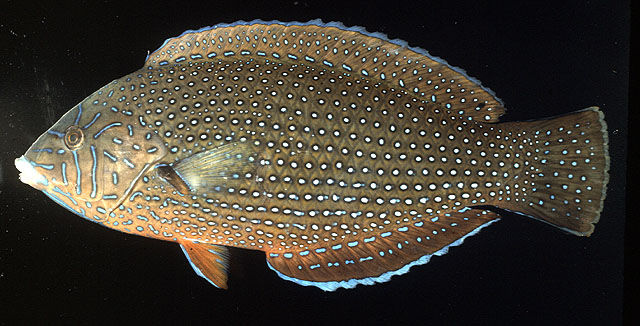fish: (15, 19, 610, 293)
